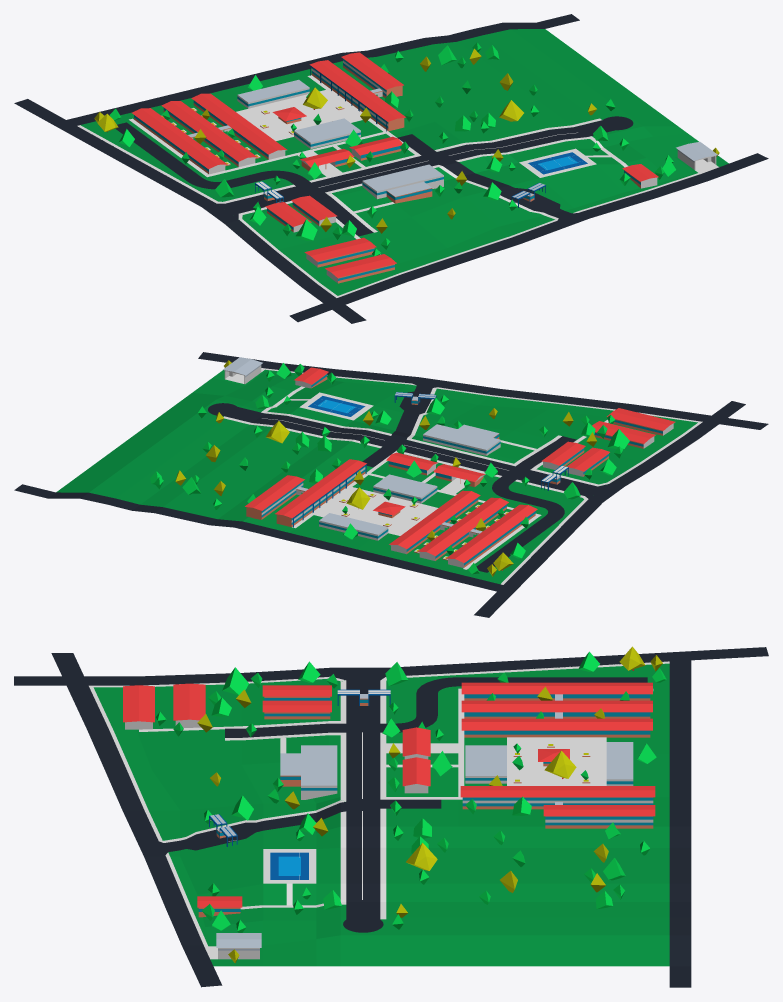
The model's file is cmmm.glb.
3 views of the same model, one above another, from view 1: azimuth 30°, elevation 25°; view 2: azimuth 150°, elevation 25°; view 3: azimuth 270°, elevation 25° (orthographic). The views are drawn at different scales.
Parts seen in each view (by area): view 1: mecmmm_basegreen, mecmmm_road001.001, mecmmm_road002, mecmmm_road001, mecmmm_pav001.004, mecmmm_road001.003, mecmmm_build001.001, mecmmm_road001.002, mecmmm_build002, mecmmm_build002.002, mecmmm_build002.001, mecmmm_road001.005 (+17 smaller); view 2: mecmmm_basegreen, mecmmm_road002, mecmmm_road001, mecmmm_road001.001, mecmmm_pav001.004, mecmmm_road001.003, mecmmm_build001.001, mecmmm_road001.002, mecmmm_build002, mecmmm_build002.002, mecmmm_build002.001, mecmmm_build003.002 (+16 smaller); view 3: mecmmm_basegreen, mecmmm_road002, mecmmm_road001.001, mecmmm_road001, mecmmm_build001.001, mecmmm_pav001.004, mecmmm_build002.002, mecmmm_build002.001, mecmmm_build002, mecmmm_road001.003, mecmmm_road001.002, mecmmm_build001 (+21 smaller).
Part boxes in pixels (x1,y1,x2,y2): mecmmm_basegreen: (80,29,728,295); mecmmm_road001.001: (289,153,768,322); mecmmm_road002: (217,120,615,218); mecmmm_road001: (66,14,579,125); mecmmm_pav001.004: (236,90,362,140); mecmmm_road001.003: (14,99,215,206); mecmmm_build001.001: (309,60,405,131); mecmmm_road001.002: (202,203,366,323); mecmmm_build002: (131,108,227,174); mecmmm_build002.002: (191,93,287,159); mecmmm_build002.001: (161,101,257,166); mecmmm_road001.005: (439,161,577,220); mecmmm_basegreen: (56,369,697,584); mecmmm_road002: (225,407,608,498); mecmmm_road001: (14,484,502,591); mecmmm_road001.001: (198,352,768,429); mecmmm_pav001.004: (314,487,438,535); mecmmm_road001.003: (474,499,602,617); mecmmm_build001.001: (275,459,366,527); mecmmm_road001.002: (589,401,745,502); mecmmm_build002: (446,504,537,567); mecmmm_build002.002: (389,490,480,554); mecmmm_build002.001: (417,497,508,560); mecmmm_build003.002: (423,424,500,455); mecmmm_basegreen: (93,663,669,966); mecmmm_road002: (335,677,384,919); mecmmm_road001.001: (51,653,222,987); mecmmm_road001: (669,660,691,987); mecmmm_build001.001: (460,786,655,809); mecmmm_pav001.004: (507,737,606,785); mecmmm_build002.002: (461,718,652,737); mecmmm_build002.001: (461,700,652,718); mecmmm_build002: (461,682,652,700); mecmmm_road001.003: (385,647,768,676); mecmmm_road001.002: (14,667,385,685); mecmmm_build001: (543,805,655,828).
Bounding box in the file's own units: 5.12 × 0.3795 × 5.07.
